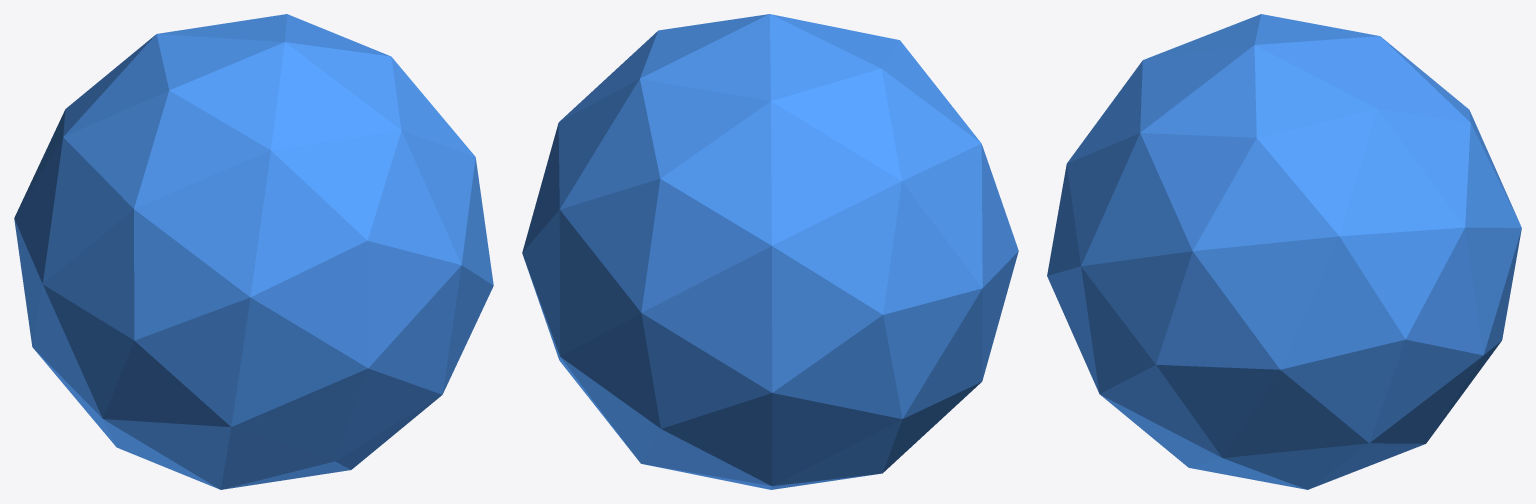
Rendered from PythonBall.glb.
The picture shows the model from 3 angles, left to right: view 1: azimuth 30°, elevation 25°; view 2: azimuth 150°, elevation 25°; view 3: azimuth 270°, elevation 25°; orthographic projection. The views are drawn at different scales.
Visible parts, largest first — view 1: Icosphere, Icosphere.001; view 2: Icosphere, Icosphere.001; view 3: Icosphere.001, Icosphere.
Boxes of the visible parts, x1,y1,x2,y2 form: Icosphere: (14, 90, 493, 489); Icosphere.001: (63, 14, 475, 156); Icosphere: (522, 40, 1018, 489); Icosphere.001: (522, 14, 901, 356); Icosphere.001: (1140, 14, 1521, 369); Icosphere: (1047, 60, 1521, 489).
Size of the model in its own units: 1.99 by 1.98 by 1.98.
